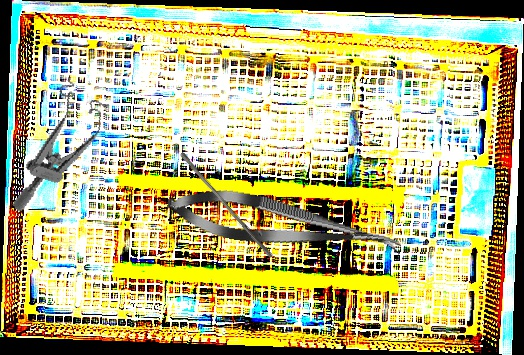Micro Scissor: (163, 179, 406, 269)
Pusher: (176, 151, 277, 259)
Speculum: (10, 72, 115, 228)
